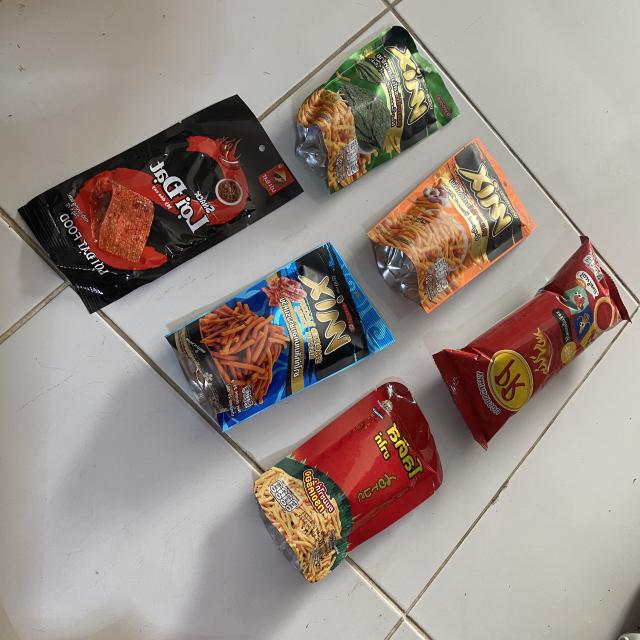plastik: (19, 96, 303, 313), (167, 243, 394, 430), (433, 237, 629, 449), (254, 383, 442, 582), (368, 139, 535, 312), (296, 26, 460, 193)
